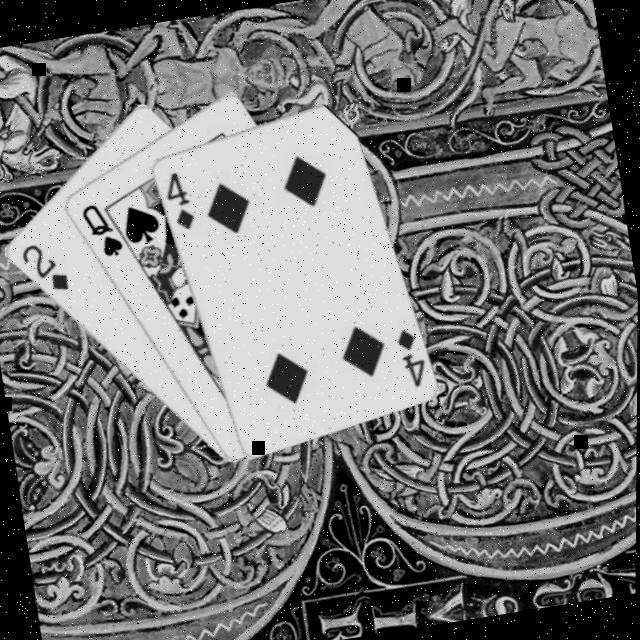2D: (18, 234, 74, 297)
4D: (161, 163, 200, 233), (393, 321, 432, 389)
QS: (79, 194, 129, 262)
